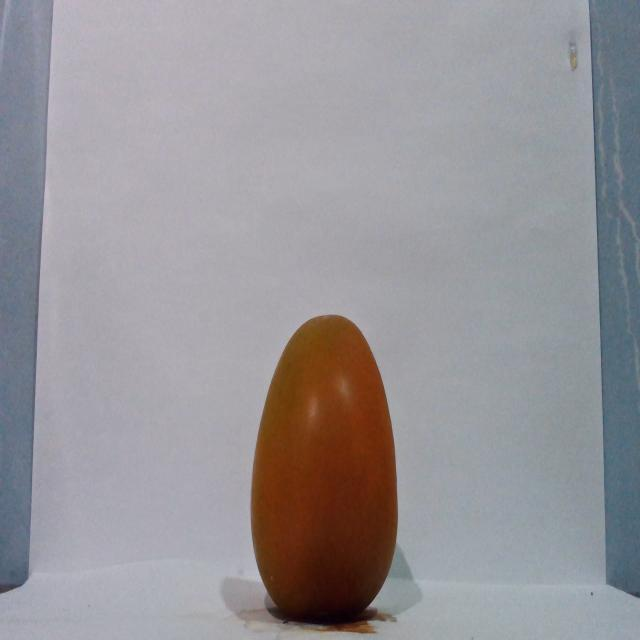Red: (248, 312, 399, 622)
